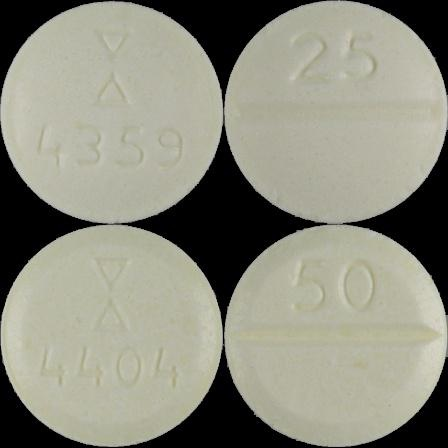0093-4359: (0, 0, 224, 224)
